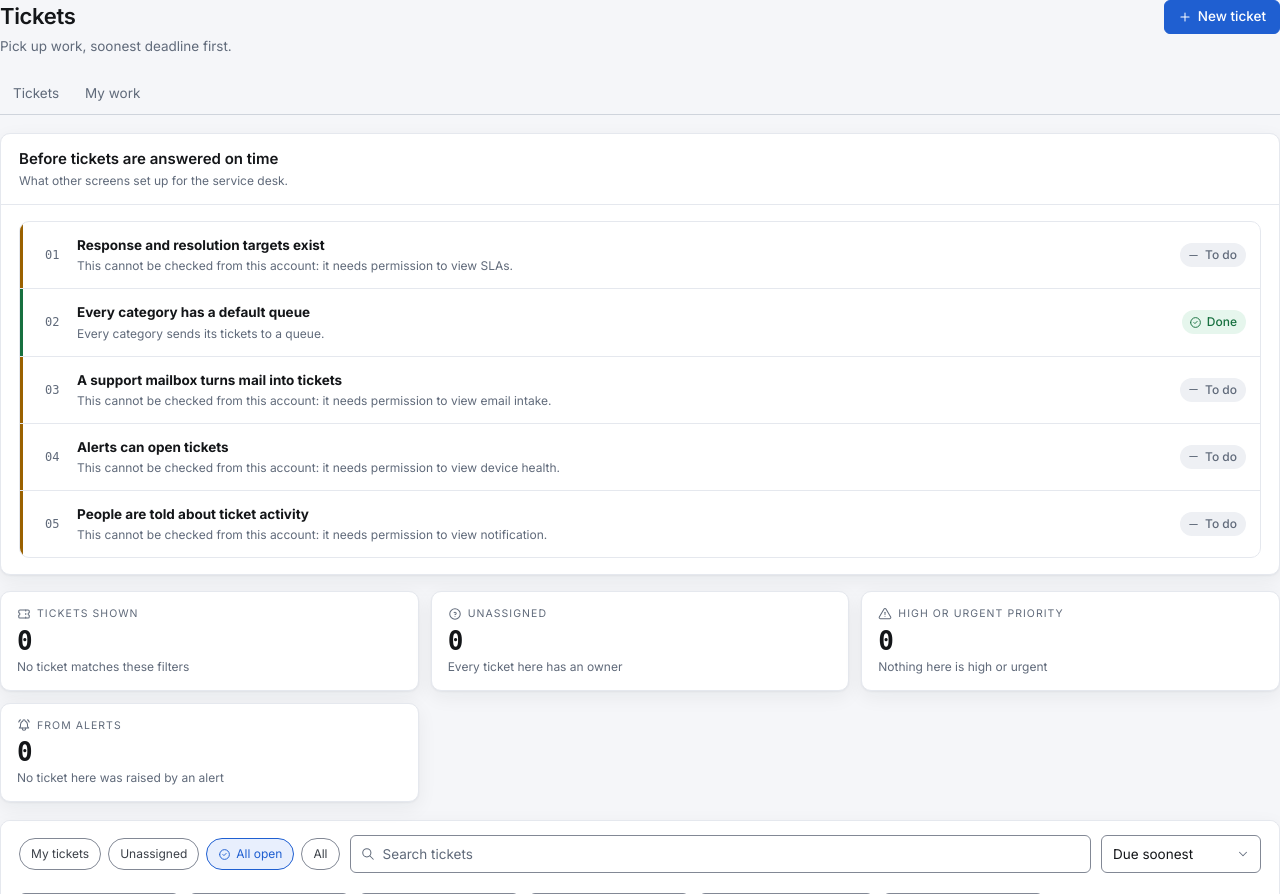
Scenario: TicketListPage wiring › says what would fill the device list rather than showing an empty one
The image size is (1280, 894).
Click the button "New ticket" at (1222, 17), box 1164,0 -> 1279,34
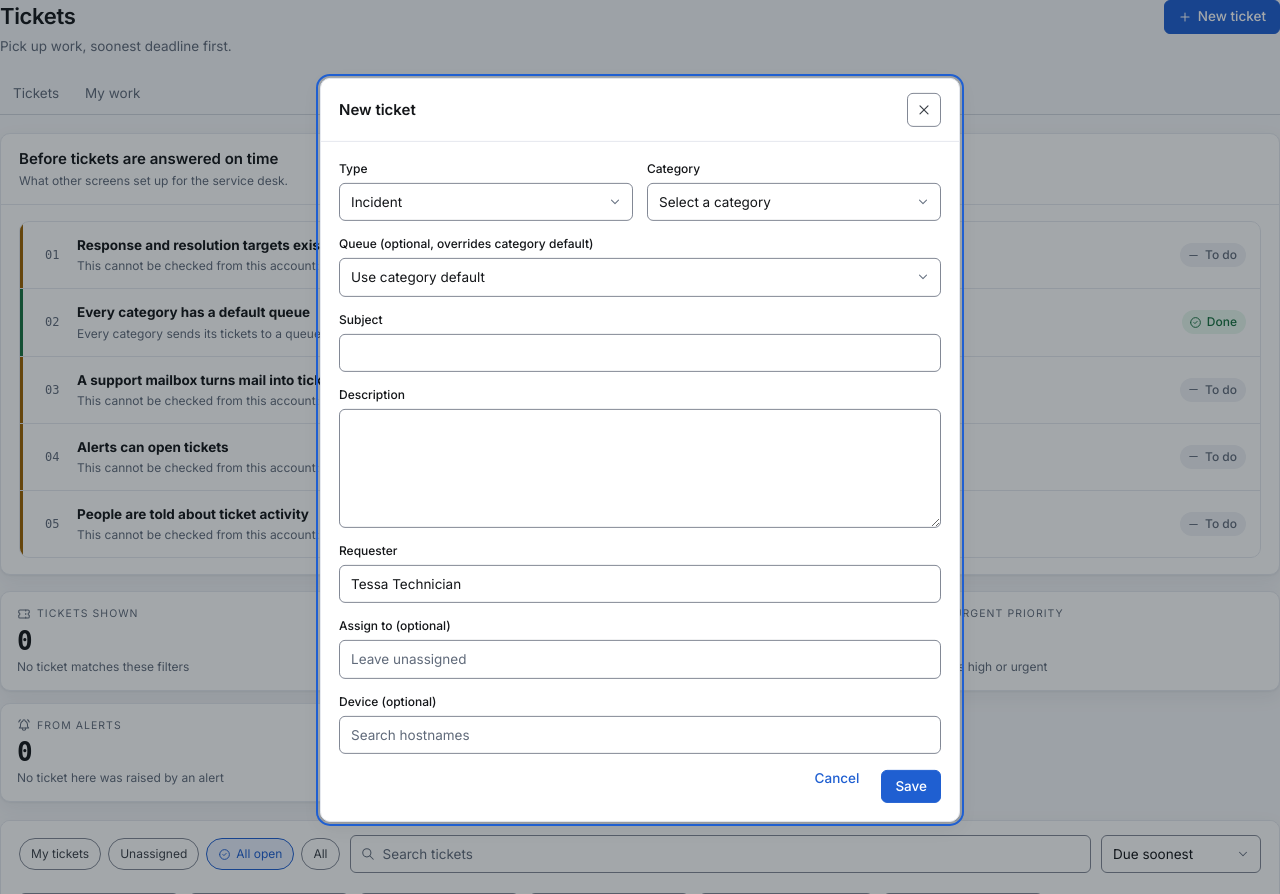
Click the dropdown labelled "Device (optional)" at (640, 735), box 339,715 -> 941,754
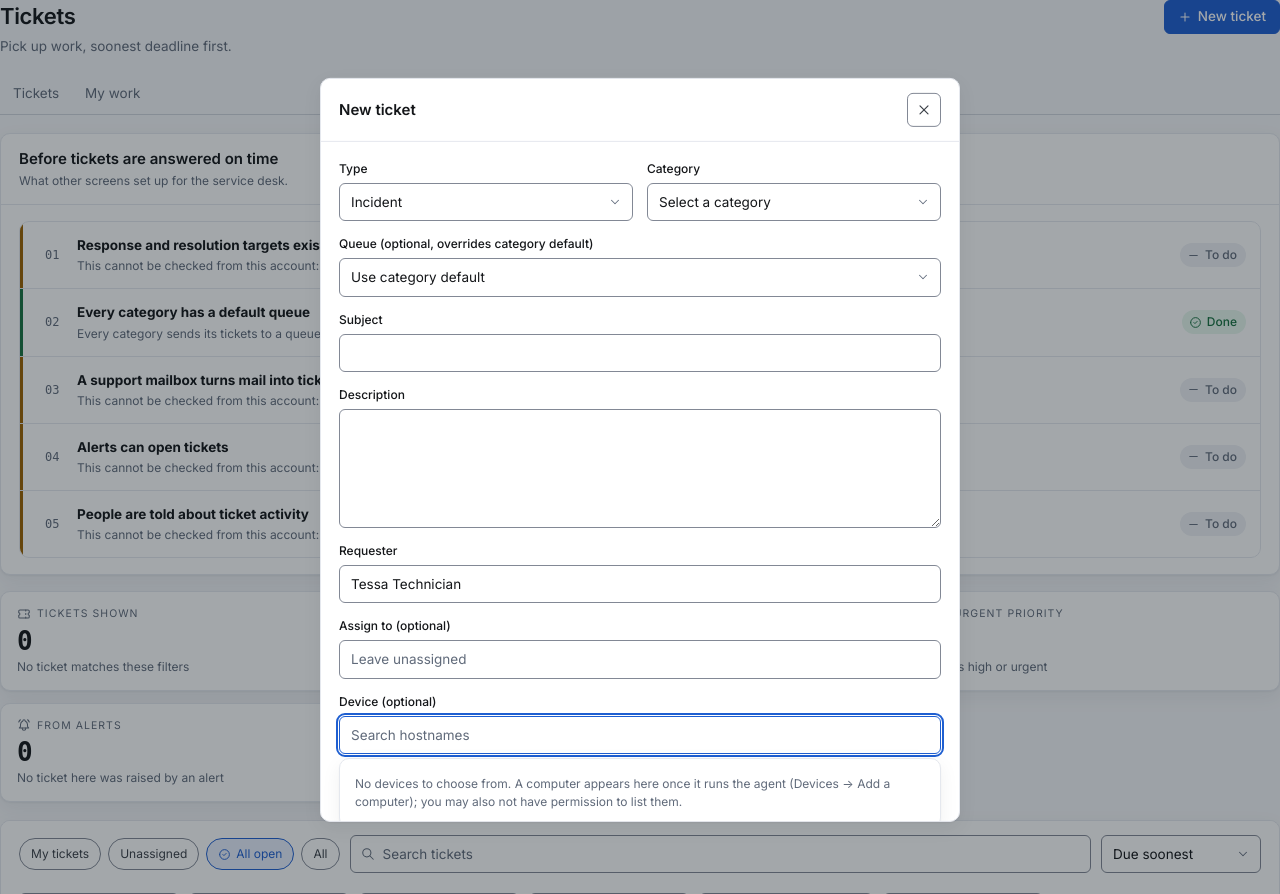
Check: the list item "A computer appears here once it runs the agent" is shown, box 355,776 -> 890,809
